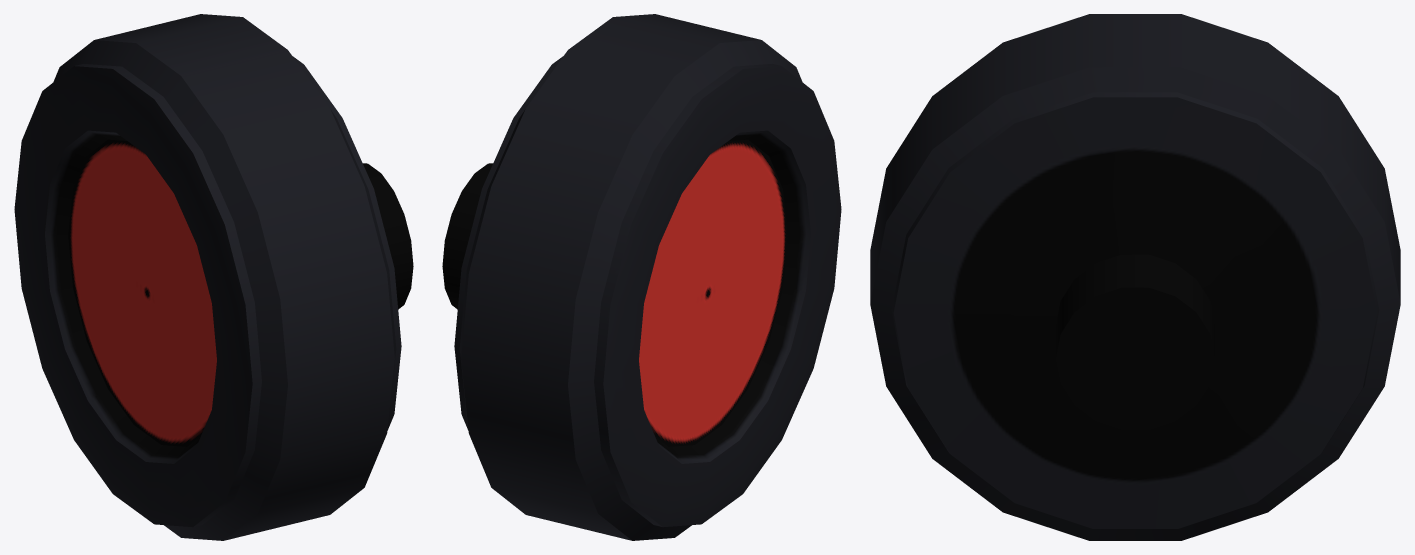
The model's file is TWheel.fbx.
3 views of the same model, side by side, from view 1: azimuth 30°, elevation 25°; view 2: azimuth 150°, elevation 25°; view 3: azimuth 270°, elevation 25° (orthographic). The views are drawn at different scales.
Visible parts, largest first — view 1: TWheel; view 2: TWheel; view 3: TWheel.
Boxes of the visible parts, x1,y1,x2,y2 form: TWheel: (14, 14, 413, 540); TWheel: (442, 14, 841, 540); TWheel: (870, 14, 1400, 540).
Bounding box in the file's own units: 59.83 × 108 × 110.
